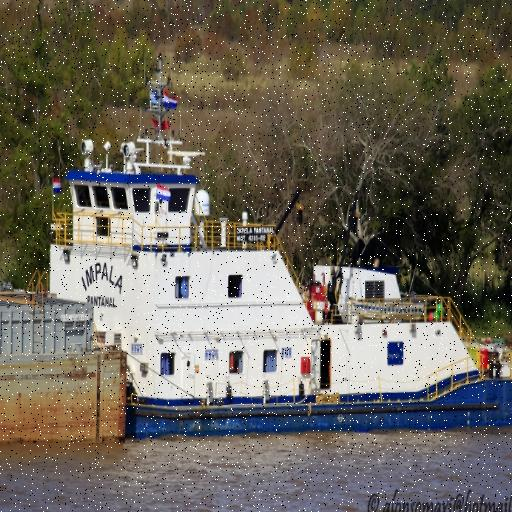tugboat: (37, 130, 512, 440)
